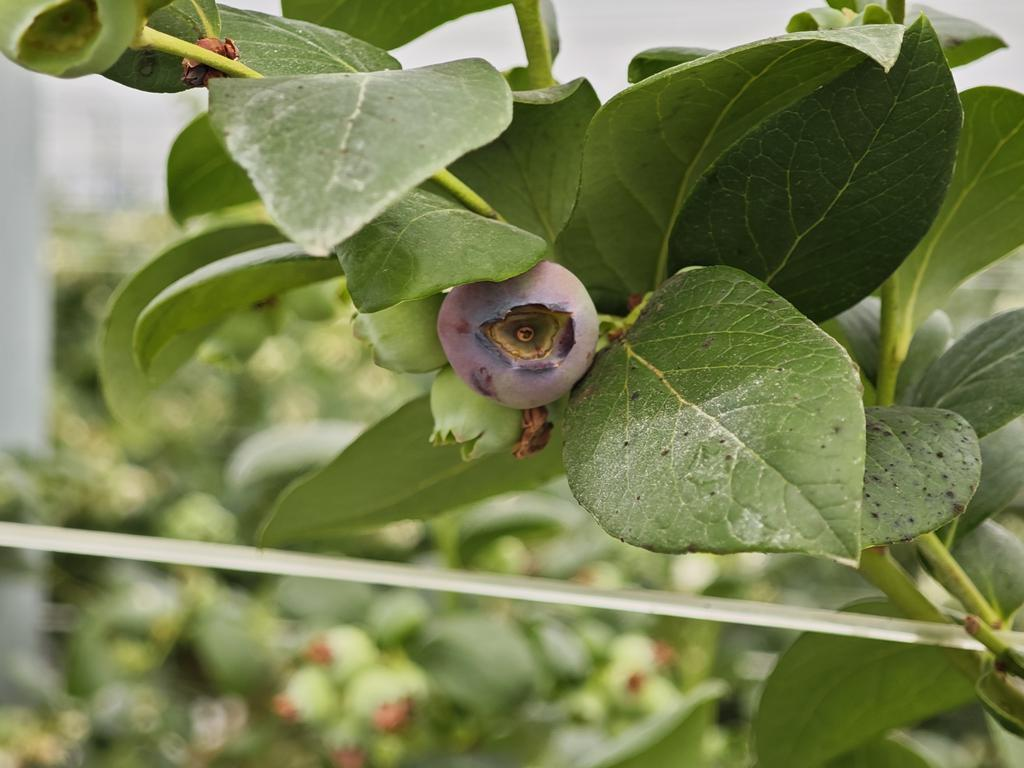Semi-RipeBlueBerry: (432, 257, 600, 409)
